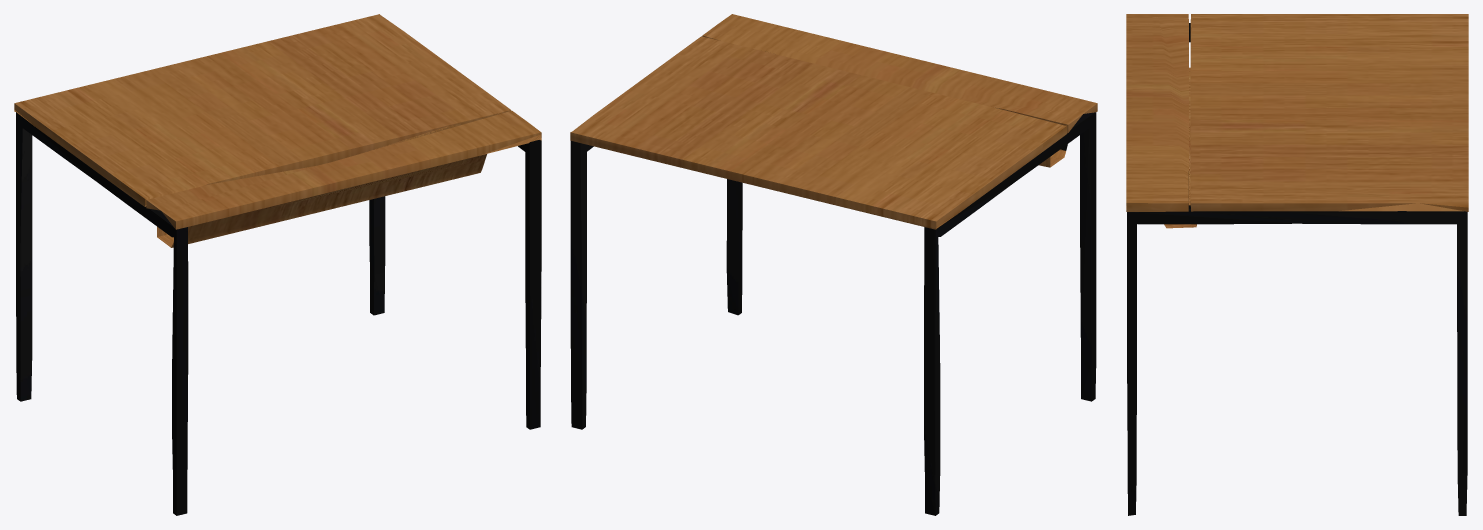
Rendered from Mesa_Prof.obj.
3 views of the same model, side by side, from view 1: azimuth 30°, elevation 25°; view 2: azimuth 150°, elevation 25°; view 3: azimuth 270°, elevation 25° (orthographic). The views are drawn at different scales.
Visible parts, largest first — view 1: Escritorio043; view 2: Escritorio043; view 3: Escritorio043.
Boxes of the visible parts, <box> form: Escritorio043: <box>14,14,541,515</box>; Escritorio043: <box>570,14,1097,515</box>; Escritorio043: <box>1126,14,1468,515</box>.
Bounding box in the file's own units: 11.44 × 8.83 × 8.75.
Materials: 2 (2 with a texture image).
